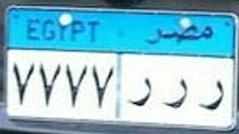7: (10, 58, 36, 108), (91, 62, 115, 110), (63, 63, 88, 109), (39, 60, 61, 108)
raa: (156, 72, 190, 112), (197, 72, 226, 116), (125, 74, 154, 111)
